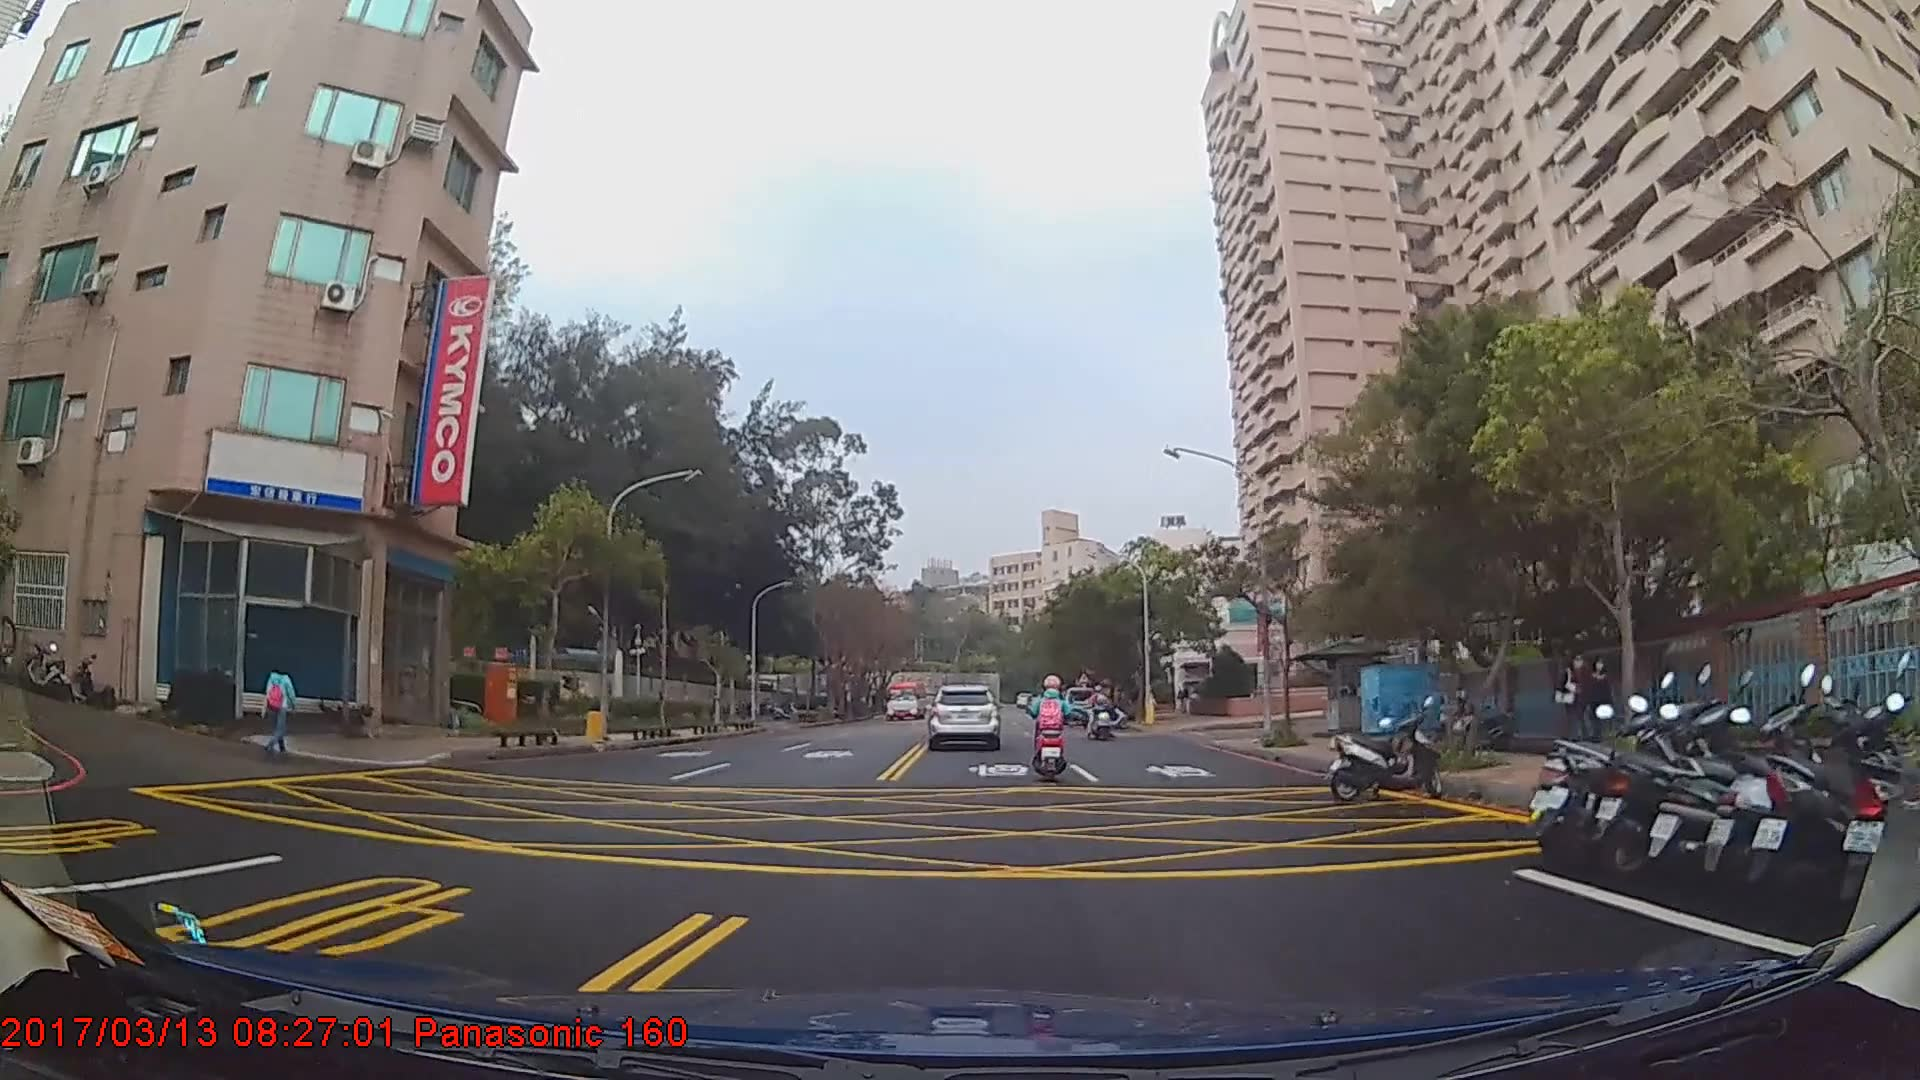pedestrian: (1552, 651, 1595, 758), (1580, 656, 1616, 759), (265, 654, 297, 761)
rider: (1028, 676, 1072, 786), (1085, 685, 1114, 737)
vehicle: (925, 685, 999, 750), (882, 678, 928, 720)
